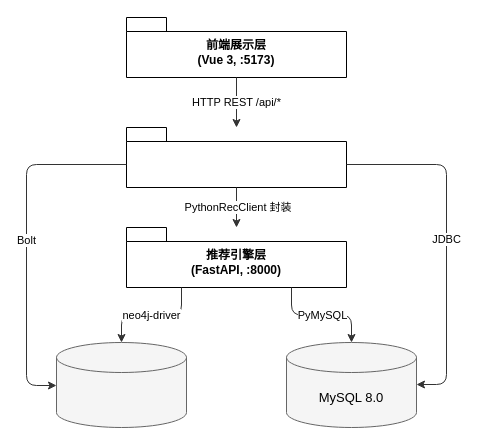
The diagram is 478 pixels wide and 445 high, and some of its shapes have lost their labels. The shapes that lost their labels are listed below. From the top down, each one's centre as x and y in pixels, then its label:
At pixel 236 157: "后端业务层 (Spring Boot, :8080)".
At pixel 121 385: "Neo4j".
